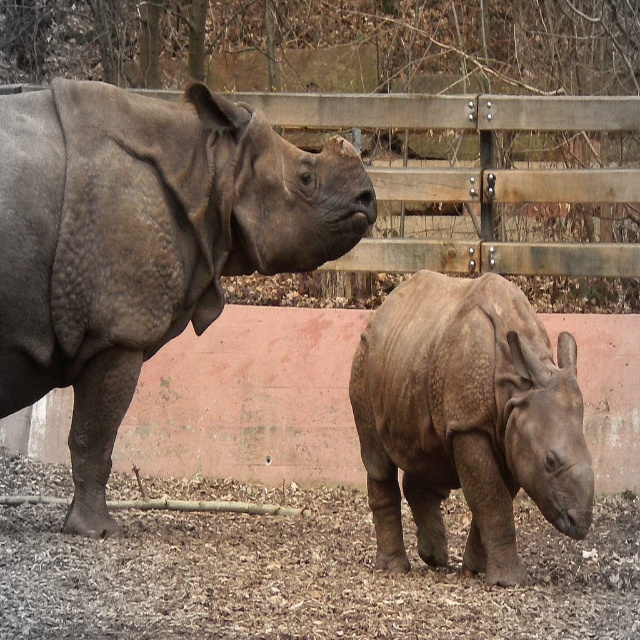Rhinoceros: (0, 74, 377, 542), (348, 263, 594, 589)
